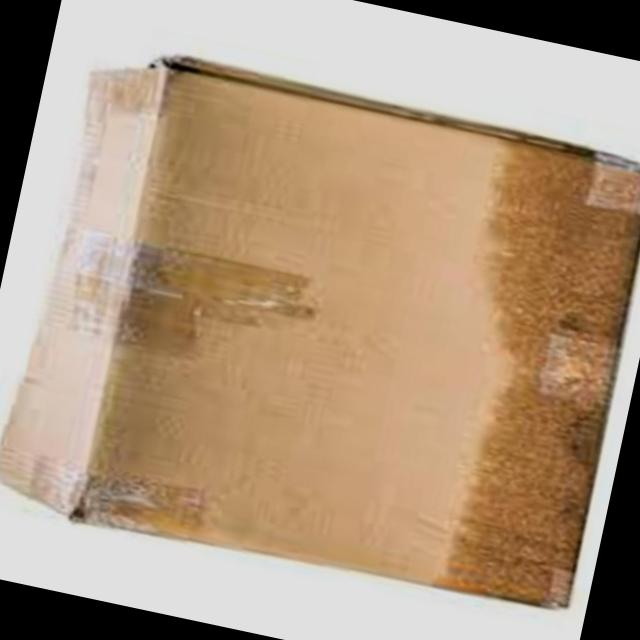box: (22, 23, 601, 550)
